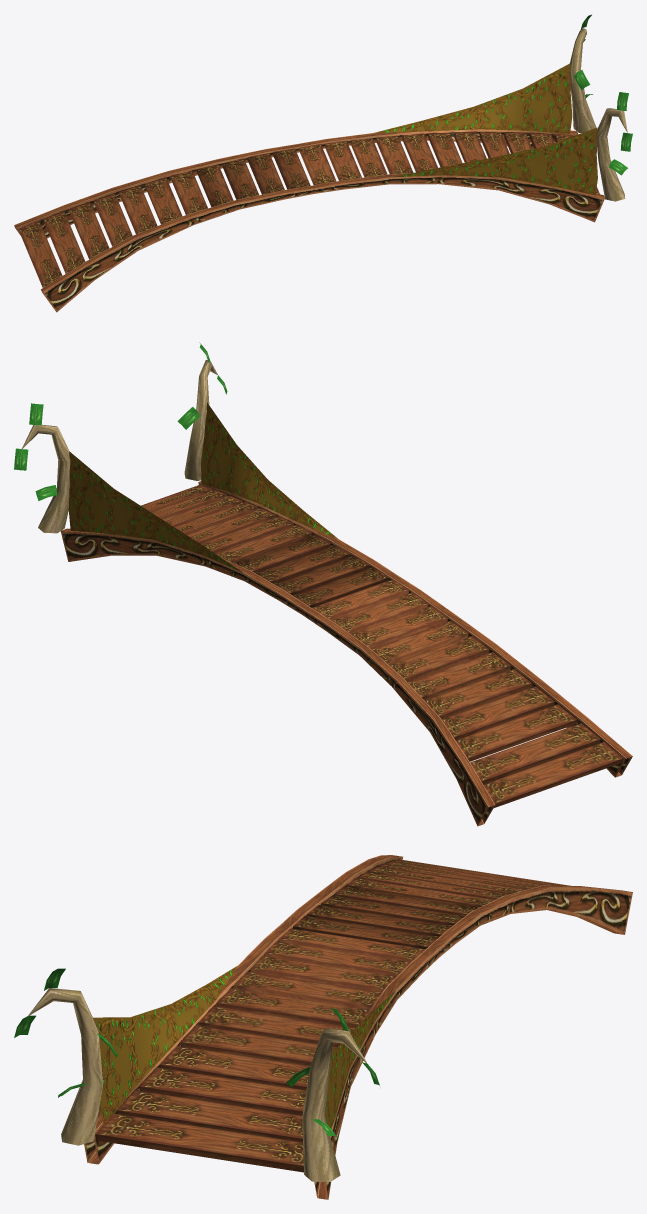
File: EKH_GROTTO_PS_GR_BRIDGE_473__GX.fbx
3 renders of one model, top to bottom at view 1: azimuth 30°, elevation 25°; view 2: azimuth 150°, elevation 25°; view 3: azimuth 270°, elevation 25°, orthographic. The views are drawn at different scales.
Visible parts, largest first — view 1: EKH_GROTTO_PS_GR_BRIDGE_473__GX; view 2: EKH_GROTTO_PS_GR_BRIDGE_473__GX; view 3: EKH_GROTTO_PS_GR_BRIDGE_473__GX.
Part boxes in pixels (bbox=[...]): EKH_GROTTO_PS_GR_BRIDGE_473__GX: bbox=[14, 14, 632, 312]; EKH_GROTTO_PS_GR_BRIDGE_473__GX: bbox=[14, 342, 632, 826]; EKH_GROTTO_PS_GR_BRIDGE_473__GX: bbox=[14, 855, 632, 1199].
Bounding box in the file's own units: 74029 × 23977 × 46600.
Materials: 5 (5 with a texture image).
